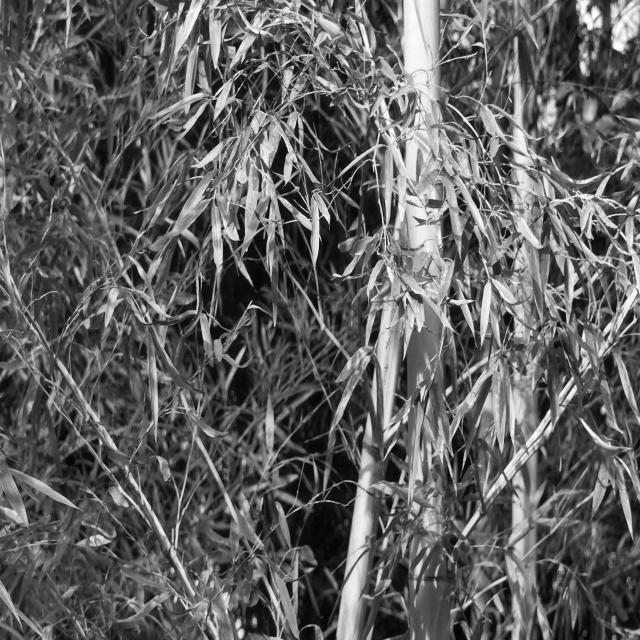Bamboo-shoots: (404, 0, 453, 640)
